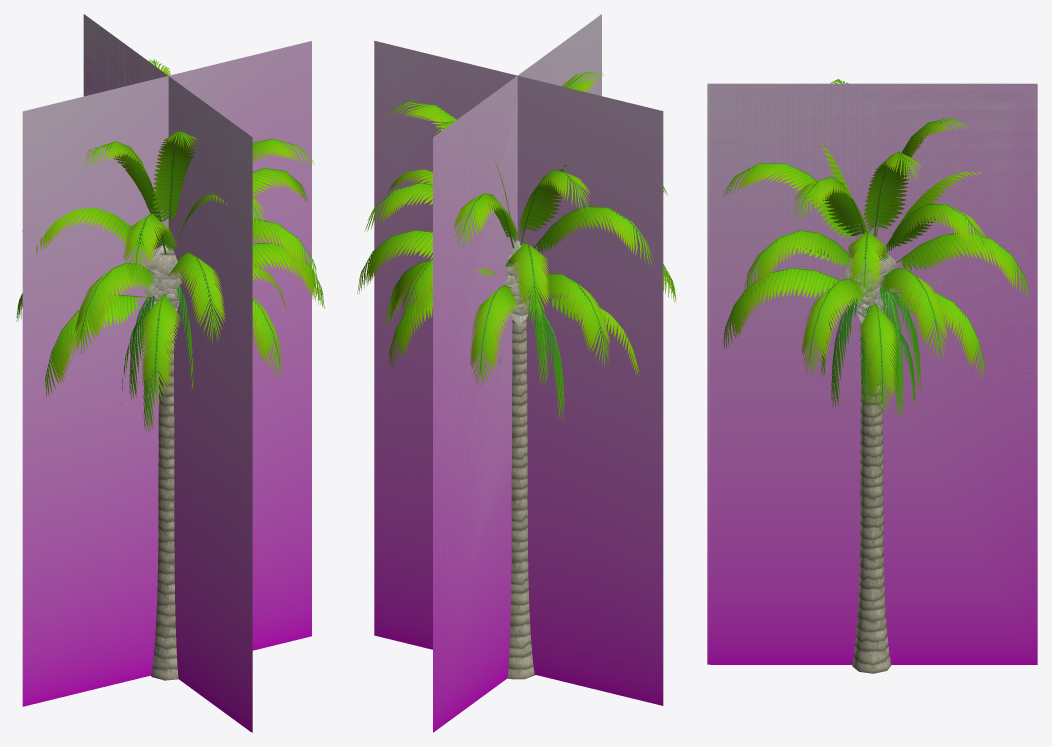
File: FAE_Palm_C.fbx
3 views of the same model, side by side, from view 1: azimuth 30°, elevation 25°; view 2: azimuth 150°, elevation 25°; view 3: azimuth 270°, elevation 25° (orthographic). The views are drawn at different scales.
Parts seen in each view (by area): view 1: FAE_Palm_C_Billboard, FAE_Palm_C_LOD0; view 2: FAE_Palm_C_Billboard, FAE_Palm_C_LOD0; view 3: FAE_Palm_C_Billboard, FAE_Palm_C_LOD0.
Boxes of the visible parts, left/top/right/bottom form: FAE_Palm_C_Billboard: left=22, top=14, right=311, bottom=732; FAE_Palm_C_LOD0: left=16, top=59, right=324, bottom=680; FAE_Palm_C_Billboard: left=374, top=14, right=663, bottom=732; FAE_Palm_C_LOD0: left=357, top=72, right=676, bottom=679; FAE_Palm_C_Billboard: left=707, top=83, right=1037, bottom=664; FAE_Palm_C_LOD0: left=722, top=79, right=1029, bottom=673.
Size of what is drawn, in the model's own units: 1292 by 2543 by 1307.
3 materials, 2 textured.
